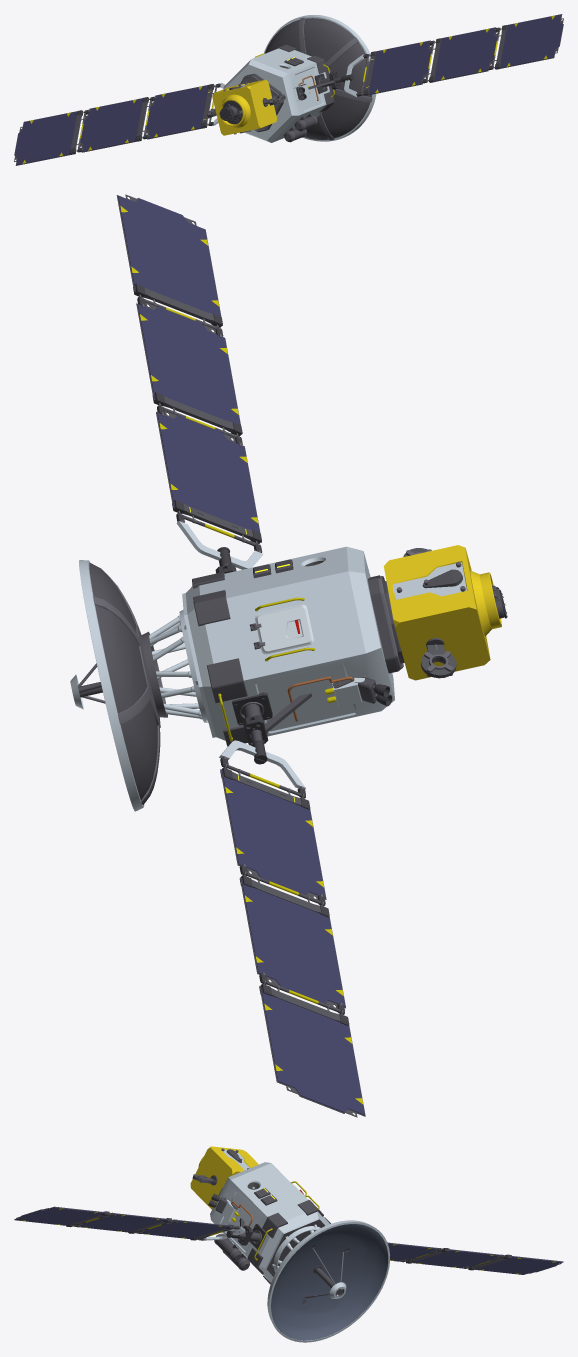
File: sat-6WVZC.glb
3 views of the same model, one above another, from view 1: azimuth 30°, elevation 25°; view 2: azimuth 150°, elevation 25°; view 3: azimuth 270°, elevation 25° (orthographic). The views are drawn at different scales.
Parts seen in each view (by area): view 1: polySurface22 (×2), pCube86, polySurface21 (×2), polySurface6 (×2), pCylinder193, pCube162, pCylinder75, pCylinder147, pCube148, pCylinder78, pCylinder30, pCube94 (+2 smaller); view 2: pCylinder193, polySurface22 (×2), polySurface21 (×2), polySurface6 (×2), pCube162, pCube86, pCylinder75, pCube104, pCylinder180; view 3: pCube86, pCylinder193, polySurface22 (×2), polySurface21 (×2), pCube162, polySurface6 (×2), pCylinder75, pCylinder234, pCylinder63, pCylinder72, pCylinder43.
Boxes of the visible parts, x1,y1,x2,y2 form: polySurface22 (×2): (14,14,562,165); pCube86: (265,18,371,139); polySurface21 (×2): (80,27,496,151); polySurface6 (×2): (146,40,430,138); pCylinder193: (223,48,329,142); pCube162: (212,79,276,135); pCylinder75: (264,15,376,141); pCylinder147: (222,94,250,127); pCube148: (240,75,280,131); pCylinder78: (325,37,358,67); pCylinder30: (219,98,246,126); pCube94: (344,54,363,96); pCylinder193: (185,546,394,740); polySurface22 (×2): (118,195,364,1115); polySurface21 (×2): (137,304,345,1006); polySurface6 (×2): (157,412,325,898); pCube162: (383,545,490,680); pCube86: (89,562,157,804); pCylinder75: (79,560,144,811); pCube104: (255,604,313,654); pCylinder180: (207,658,247,702); pCube86: (271,1224,388,1340); pCylinder193: (210,1162,329,1282); polySurface22 (×2): (15,1206,563,1274); polySurface21 (×2): (80,1213,500,1268); pCube162: (190,1146,258,1209); polySurface6 (×2): (142,1220,438,1261); pCylinder75: (267,1220,390,1342); pCylinder234: (265,1218,324,1276); pCylinder63: (273,1226,320,1272); pCylinder72: (262,1213,287,1238); pCylinder43: (214,1233,241,1261).
Size of the model in its own units: 54.4 by 34.81 by 69.48.
